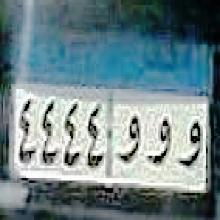4: (62, 99, 82, 174), (85, 101, 106, 171), (15, 97, 36, 167), (41, 96, 59, 170)
waw: (116, 110, 144, 168), (178, 113, 206, 169), (145, 114, 172, 169)
